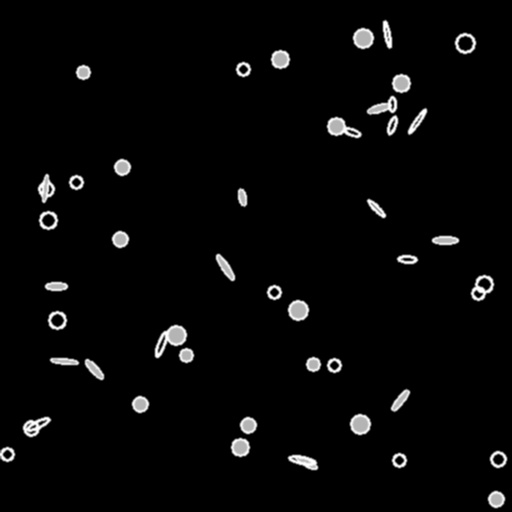pseudomonas: (215, 254, 235, 280), (407, 108, 427, 134), (83, 358, 105, 380), (390, 388, 410, 412), (153, 330, 169, 358), (366, 198, 386, 218), (26, 416, 50, 432), (295, 454, 317, 470), (367, 101, 391, 115), (382, 21, 392, 47), (289, 455, 315, 465), (386, 115, 398, 135), (41, 174, 49, 202), (343, 126, 361, 138), (51, 357, 77, 365), (237, 188, 247, 206), (45, 283, 67, 290), (433, 237, 458, 243), (388, 96, 396, 112), (398, 256, 416, 262)
synechocystis: (351, 415, 369, 433), (167, 326, 185, 344), (456, 34, 474, 52), (289, 301, 307, 319), (354, 29, 372, 47), (272, 51, 288, 67), (40, 212, 56, 228), (232, 439, 248, 455), (328, 118, 344, 134), (49, 312, 65, 328), (393, 75, 409, 91), (476, 276, 492, 292), (241, 418, 255, 432), (39, 182, 53, 196), (115, 160, 129, 174), (113, 232, 127, 246), (491, 452, 505, 466), (24, 421, 38, 435), (133, 397, 147, 411), (489, 492, 503, 506), (237, 63, 249, 75), (77, 66, 89, 78), (393, 454, 405, 466), (328, 359, 340, 371), (268, 286, 280, 298), (180, 349, 192, 361), (70, 176, 82, 188), (472, 287, 484, 299), (307, 358, 319, 370), (1, 448, 13, 460)
